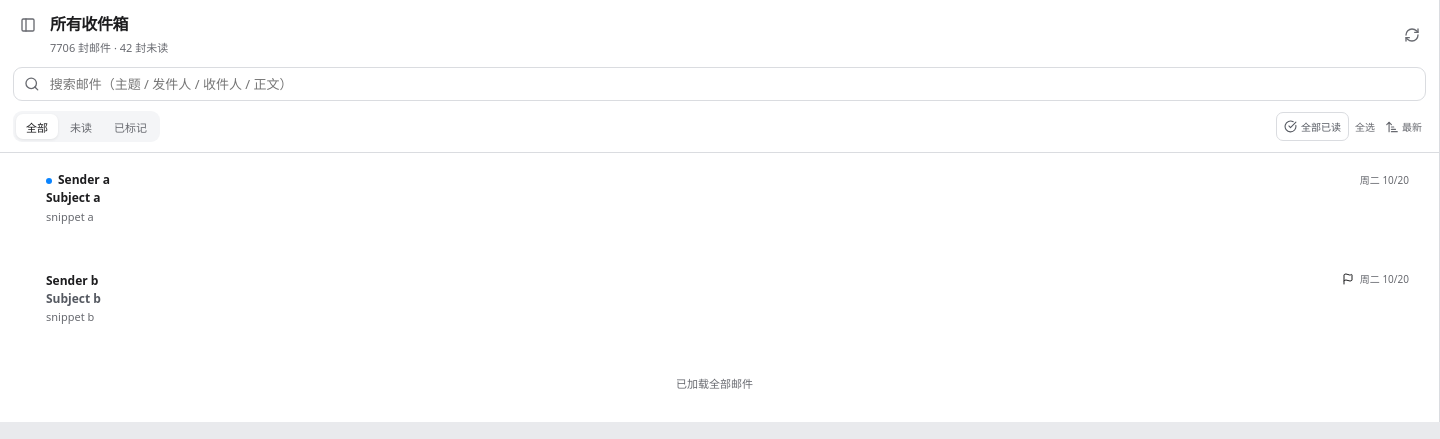
Scenario: <MessageList /> › displays authoritative total count from folder-stats and matches unread count in unread view (AC-001)
The image size is (1440, 439).
Expected: the text with class "list-count" reads "7706 封邮件 · 42 封未读", [50,40,168,55]
Click the tab "未读": (81, 126) [60,114,102,139]
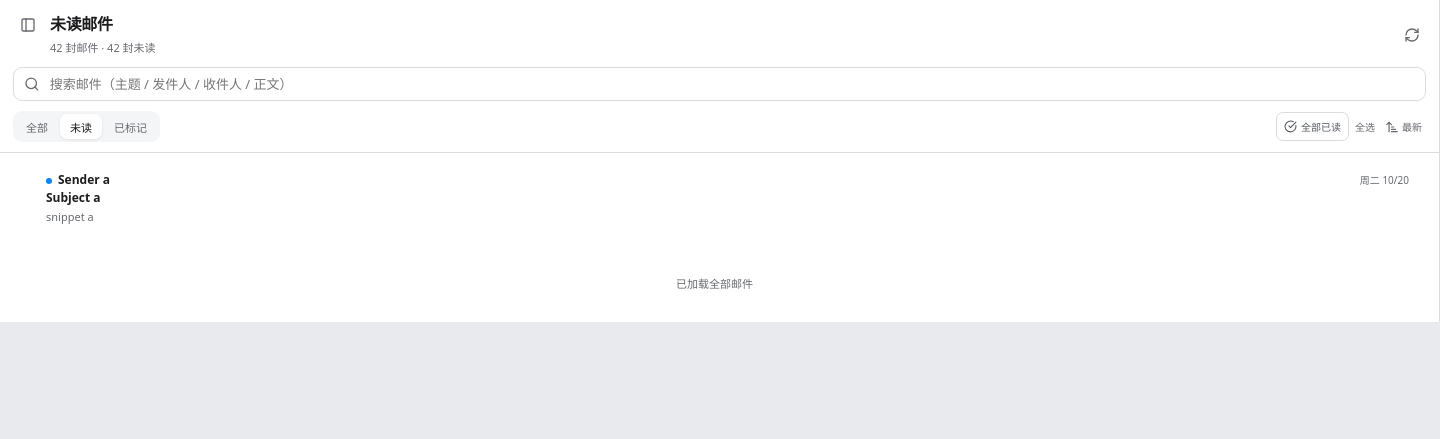
Result: the text with class "list-count" reads "42 封邮件 · 42 封未读" at [50,40,156,55]
